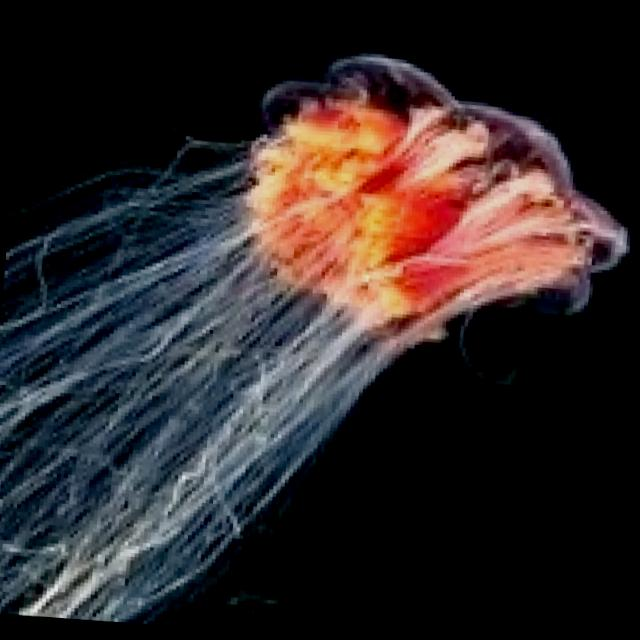Moon-jellyfish: (0, 17, 640, 640)
